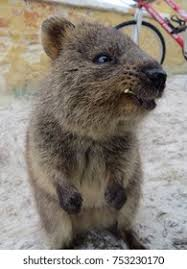quokka: (14, 4, 170, 251)
